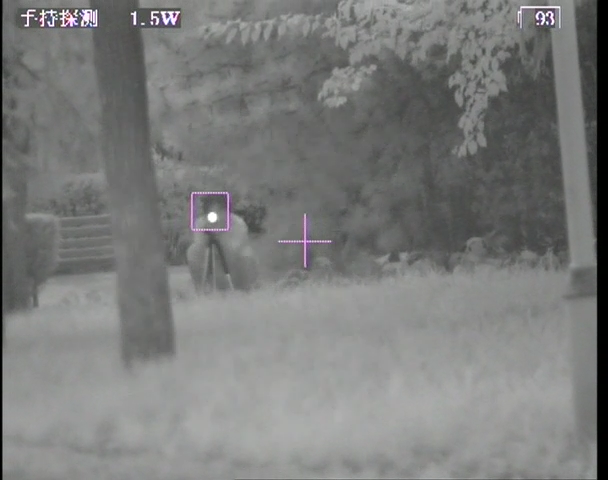my: (205, 210, 220, 224)
